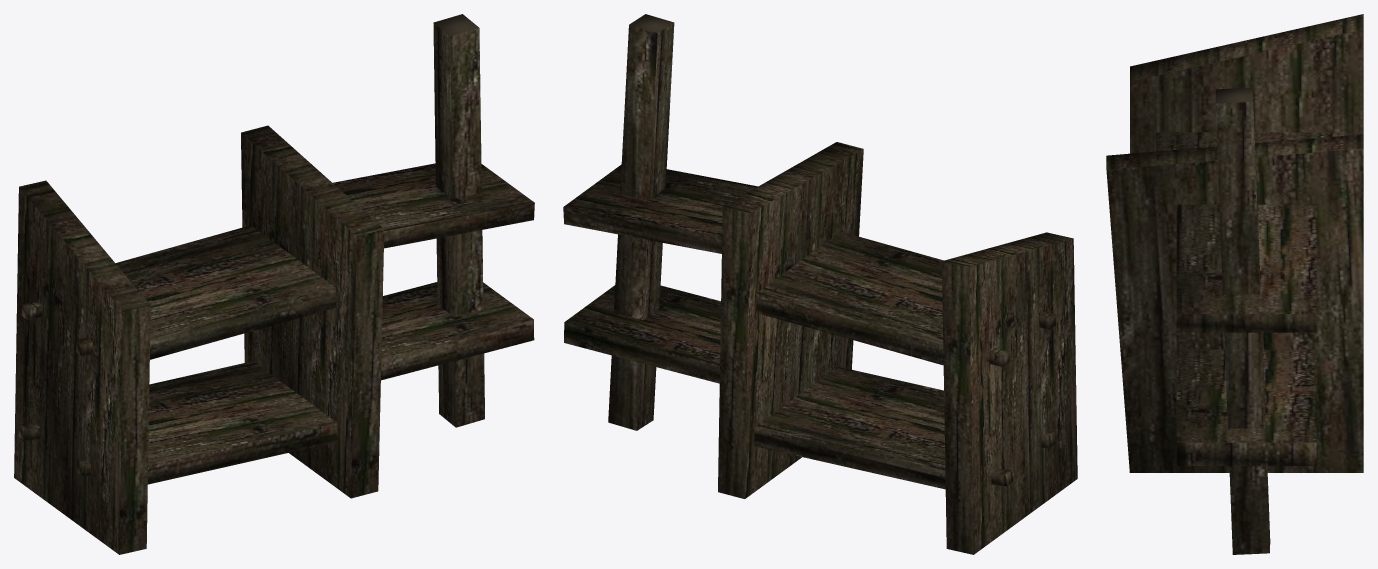
The model's file is OC_SHELF_V1.glb.
3 views of the same model, side by side, from view 1: azimuth 30°, elevation 25°; view 2: azimuth 150°, elevation 25°; view 3: azimuth 270°, elevation 25° (orthographic). The views are drawn at different scales.
Parts seen in each view (by area): view 1: Mesh; view 2: Mesh; view 3: Mesh.
Part boxes in pixels (x1,y1,x2,y2): Mesh: (14, 14, 534, 554); Mesh: (563, 14, 1077, 554); Mesh: (1106, 14, 1363, 554).
Bounding box in the file's own units: 2.47 × 2.11 × 1.1.
Materials: 1 (1 with a texture image).
